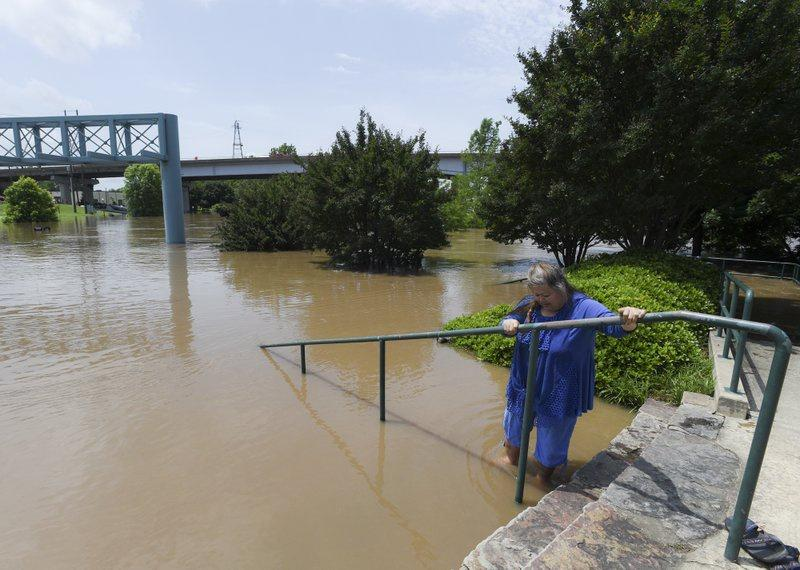victim: (496, 262, 646, 492)
